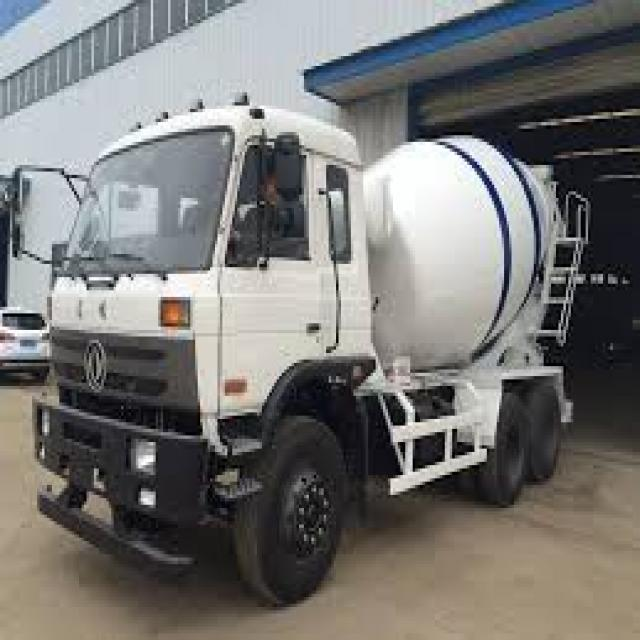Mixer Truck: (10, 90, 594, 607)
